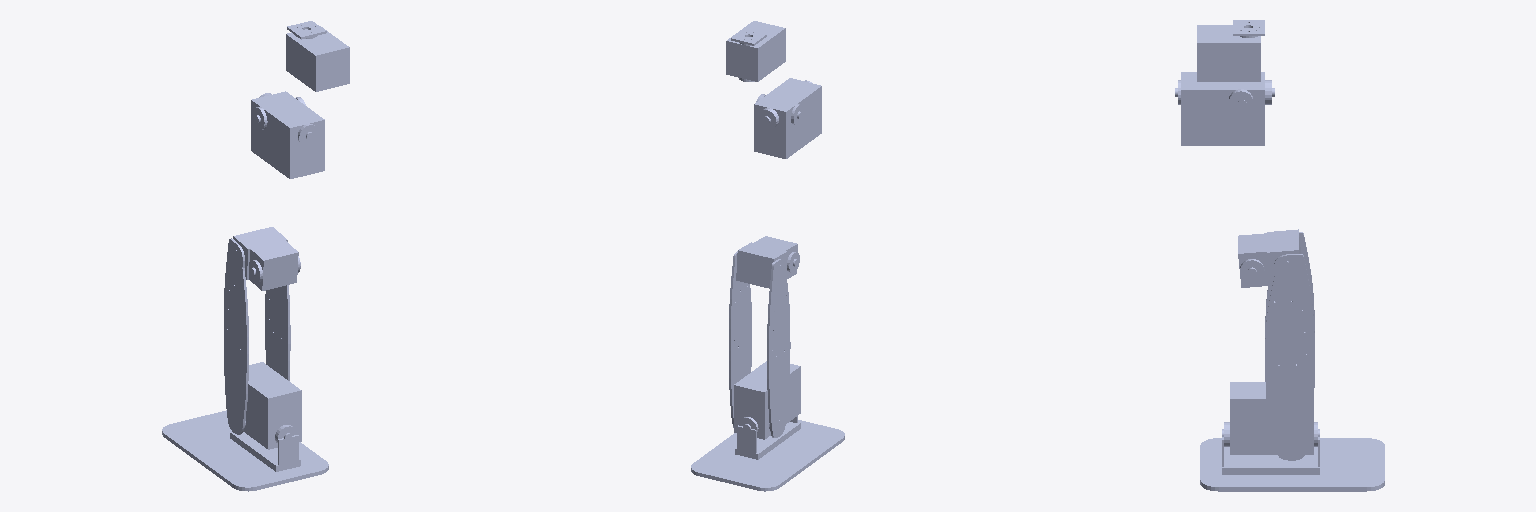
URDF robot description (gummi):
<?xml version="1.0" ?>
<robot name="gummi">
	<link name="base_link"/>
	<joint name="set_worldaxis" type="fixed">
		<origin rpy="1.570796326795 0 0" xyz="0.0 0.0 0.0"/>
		<parent link="base_link"/>
		<child link="base"/>
		<axis xyz="0 0 0"/>
		<limit effort="0" lower="-1" upper="1" velocity="0"/>
	</joint>
	<link name="base">
		<inertial>
			<origin rpy="0.0 0.0 0.0" xyz="0.0 0.0 0.0"/>
			<mass value="0"/>
			<inertia ixx="0" ixy="0" ixz="0" iyy="0" iyz="0" izz="0"/>
		</inertial>
		<visual>
			<origin rpy="0.0 0.0 0.0" xyz="0.0 0.0 0.0"/>
			<geometry>
				<mesh filename="package://scott_left_leg/meshes/base.stl"/>
			</geometry>
			<material name="">
				<color rgba="0.792156862745098 0.819607843137255 0.933333333333333 1"/>
			</material>
		</visual>
		<collision>
			<origin rpy="0.0 0.0 0.0" xyz="0.0 0.0 0.0"/>
			<geometry>
				<mesh filename="package://scott_left_leg/meshes/base.stl"/>
			</geometry>
		</collision>
	</link>
	<link name="link1">
		<inertial>
			<origin rpy="0.0 0.0 0.0" xyz="0.0 0.0 0.0"/>
			<mass value="0"/>
			<inertia ixx="0" ixy="0" ixz="0" iyy="0" iyz="0" izz="0"/>
		</inertial>
		<visual>
			<origin rpy="0.0 0.0 0.0" xyz="0.0 0.0 0.0"/>
			<geometry>
				<mesh filename="package://scott_left_leg/meshes/link1.stl"/>
			</geometry>
			<material name="">
				<color rgba="0.792156862745098 0.819607843137255 0.933333333333333 1"/>
			</material>
		</visual>
		<collision>
			<origin rpy="0.0 0.0 0.0" xyz="0.0 0.0 0.0"/>
			<geometry>
				<mesh filename="package://scott_left_leg/meshes/link1.stl"/>
			</geometry>
		</collision>
	</link>
	<link name="link2">
		<inertial>
			<origin rpy="0.0 0.0 0.0" xyz="0.0 0.0 0.0"/>
			<mass value="0"/>
			<inertia ixx="0" ixy="0" ixz="0" iyy="0" iyz="0" izz="0"/>
		</inertial>
		<visual>
			<origin rpy="0.0 0.0 0.0" xyz="0.0 0.0 0.0"/>
			<geometry>
				<mesh filename="package://scott_left_leg/meshes/link2.stl"/>
			</geometry>
			<material name="">
				<color rgba="0.792156862745098 0.819607843137255 0.933333333333333 1"/>
			</material>
		</visual>
		<collision>
			<origin rpy="0.0 0.0 0.0" xyz="0.0 0.0 0.0"/>
			<geometry>
				<mesh filename="package://scott_left_leg/meshes/link2.stl"/>
			</geometry>
		</collision>
	</link>
	<link name="link3">
		<inertial>
			<origin rpy="0.0 0.0 0.0" xyz="0.0 0.0 0.0"/>
			<mass value="0"/>
			<inertia ixx="0" ixy="0" ixz="0" iyy="0" iyz="0" izz="0"/>
		</inertial>
		<visual>
			<origin rpy="0.0 0.0 0.0" xyz="0.0 0.0 0.0"/>
			<geometry>
				<mesh filename="package://scott_left_leg/meshes/link3.stl"/>
			</geometry>
			<material name="">
				<color rgba="0.792156862745098 0.819607843137255 0.933333333333333 1"/>
			</material>
		</visual>
		<collision>
			<origin rpy="0.0 0.0 0.0" xyz="0.0 0.0 0.0"/>
			<geometry>
				<mesh filename="package://scott_left_leg/meshes/link3.stl"/>
			</geometry>
		</collision>
	</link>
	<link name="link4">
		<inertial>
			<origin rpy="0.0 0.0 0.0" xyz="0.0 0.0 0.0"/>
			<mass value="0"/>
			<inertia ixx="0" ixy="0" ixz="0" iyy="0" iyz="0" izz="0"/>
		</inertial>
		<visual>
			<origin rpy="0.0 0.0 0.0" xyz="0.0 0.0 0.0"/>
			<geometry>
				<mesh filename="package://scott_left_leg/meshes/link4.stl"/>
			</geometry>
			<material name="">
				<color rgba="0.792156862745098 0.819607843137255 0.933333333333333 1"/>
			</material>
		</visual>
		<collision>
			<origin rpy="0.0 0.0 0.0" xyz="0.0 0.0 0.0"/>
			<geometry>
				<mesh filename="package://scott_left_leg/meshes/link4.stl"/>
			</geometry>
		</collision>
	</link>
	<link name="link5">
		<inertial>
			<origin rpy="0.0 0.0 0.0" xyz="0.0 0.0 0.0"/>
			<mass value="0"/>
			<inertia ixx="0" ixy="0" ixz="0" iyy="0" iyz="0" izz="0"/>
		</inertial>
		<visual>
			<origin rpy="0.0 0.0 0.0" xyz="0.0 0.0 0.0"/>
			<geometry>
				<mesh filename="package://scott_left_leg/meshes/link5.stl"/>
			</geometry>
			<material name="">
				<color rgba="0.792156862745098 0.819607843137255 0.933333333333333 1"/>
			</material>
		</visual>
		<collision>
			<origin rpy="0.0 0.0 0.0" xyz="0.0 0.0 0.0"/>
			<geometry>
				<mesh filename="package://scott_left_leg/meshes/link5.stl"/>
			</geometry>
		</collision>
	</link>
	<link name="link6">
		<inertial>
			<origin rpy="0.0 0.0 0.0" xyz="0.0 0.0 0.0"/>
			<mass value="0"/>
			<inertia ixx="0" ixy="0" ixz="0" iyy="0" iyz="0" izz="0"/>
		</inertial>
		<visual>
			<origin rpy="0.0 0.0 0.0" xyz="0.0 0.0 0.0"/>
			<geometry>
				<mesh filename="package://scott_left_leg/meshes/link6.stl"/>
			</geometry>
			<material name="">
				<color rgba="0.792156862745098 0.819607843137255 0.933333333333333 1"/>
			</material>
		</visual>
		<collision>
			<origin rpy="0.0 0.0 0.0" xyz="0.0 0.0 0.0"/>
			<geometry>
				<mesh filename="package://scott_left_leg/meshes/link6.stl"/>
			</geometry>
		</collision>
	</link>
	<link name="link7">
		<inertial>
			<origin rpy="0.0 0.0 0.0" xyz="0.0 0.0 0.0"/>
			<mass value="0"/>
			<inertia ixx="0" ixy="0" ixz="0" iyy="0" iyz="0" izz="0"/>
		</inertial>
		<visual>
			<origin rpy="0.0 0.0 0.0" xyz="0.0 0.0 0.0"/>
			<geometry>
				<mesh filename="package://scott_left_leg/meshes/link7.stl"/>
			</geometry>
			<material name="">
				<color rgba="0.792156862745098 0.819607843137255 0.933333333333333 1"/>
			</material>
		</visual>
		<collision>
			<origin rpy="0.0 0.0 0.0" xyz="0.0 0.0 0.0"/>
			<geometry>
				<mesh filename="package://scott_left_leg/meshes/link7.stl"/>
			</geometry>
		</collision>
	</link>



	<joint name="joint0" type="fixed">
		<origin rpy="0.0 0.0 0.0" xyz="-0.0356 0.5200 -0.0130"/>
		<parent link="base"/>
		<child link="link1"/>
		<axis xyz="0 0 0"/>
		<limit effort="0" lower="-1" upper="1" velocity="0"/>
	</joint>
	<joint name="joint1" type="continuous">
		<origin rpy="0.0 0.0 0.0" xyz="-0.0205 -0.0275 0.0135"/>
		<parent link="link1"/>
		<child link="link2"/>
		<axis xyz="0.0 1.0 0.0"/>
		<limit effort="0" lower="-1" upper="1" velocity="0"/>
	</joint>
	<joint name="joint2" type="continuous">
		<origin rpy="0.0 0.0 0.0" xyz="0.0 -0.0390 -0.0280"/>
		<parent link="link2"/>
		<child link="link3"/>
		<axis xyz="0.0 0.0 -1.0"/>
		<limit effort="0" lower="-1" upper="1" velocity="0"/>
	</joint>
	<joint name="joint3" type="continuous">
		<origin rpy="0.0 0.0 0.0" xyz="0.0305 0.0 0.0350"/>
		<parent link="link3"/>
		<child link="link4"/>
		<axis xyz="-1.0 0.0 0.0"/>
		<limit effort="0" lower="-1" upper="1" velocity="0"/>
	</joint>
	<joint name="joint4" type="continuous">
		<origin rpy="0.0 0.0 0.0" xyz="0.0 -0.2011 -0.0106"/>
		<parent link="link4"/>
		<child link="link5"/>
		<axis xyz="1.0 0.0 0.0"/>
		<limit effort="0" lower="-1" upper="1" velocity="0"/>
	</joint>
	<joint name="joint5" type="continuous">
		<origin rpy="0.0 0.0 0.0" xyz="-0.0010 -0.2074 -0.0419"/>
		<parent link="link5"/>
		<child link="link6"/>
		<axis xyz="1.0 0.0 0.0"/>
		<limit effort="0" lower="-1" upper="1" velocity="0"/>
	</joint>
	<joint name="joint6" type="continuous">
		<origin rpy="0.0 0.0 0.0" xyz="-0.0295 0.0 0.0750"/>
		<parent link="link6"/>
		<child link="link7"/>
		<axis xyz="0.0 0.0 -1.0"/>
		<limit effort="0" lower="-1" upper="1" velocity="0"/>
	</joint>
</robot>

--- Facts derived from the render (not from the file) ---
The picture shows the robot from 3 angles, left to right: view 1: azimuth 30°, elevation 25°; view 2: azimuth 150°, elevation 25°; view 3: azimuth 270°, elevation 25°; orthographic projection.
Model gummi with 9 links and 8 joints (6 continuous, 2 fixed), rooted at base_link, posed all joints at 0.
Visible links, largest first — view 1: link5, link7, link3, link6, link1; view 2: link5, link7, link3, link1, link6; view 3: link5, link7, link3, link1, link6.
Link boxes in pixels (x1=…): link5: x1=224, y1=227, x2=300, y2=434; link7: x1=162, y1=410, x2=328, y2=491; link3: x1=251, y1=91, x2=324, y2=178; link6: x1=233, y1=362, x2=301, y2=449; link1: x1=286, y1=21, x2=349, y2=91; link5: x1=729, y1=236, x2=799, y2=437; link7: x1=691, y1=416, x2=844, y2=491; link3: x1=754, y1=78, x2=821, y2=158; link1: x1=726, y1=21, x2=785, y2=81; link6: x1=734, y1=361, x2=800, y2=439; link5: x1=1238, y1=229, x2=1314, y2=460; link7: x1=1200, y1=429, x2=1384, y2=491; link3: x1=1175, y1=72, x2=1274, y2=145; link1: x1=1197, y1=20, x2=1264, y2=81; link6: x1=1222, y1=382, x2=1319, y2=454.
Bounding box of the posed robot: 0.1435 × 0.2275 × 0.5505 m (x, y, z).
5 mesh visuals loaded from 8 distinct referenced files (5 binary STL); not drawn: 3 (reference not matched to a file when rendering).
